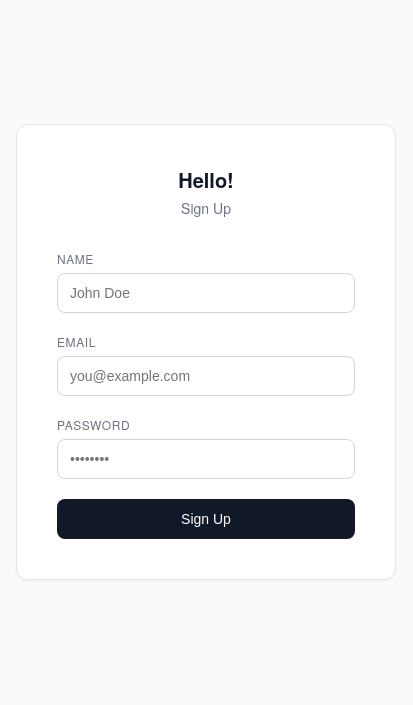
Scenario: SignUpPage submit states › returns to idle state when user edits after an error
This screenshot has width=413, height=705.
Click the button "Sign Up". click: (206, 519)
box: [57,499,355,539]
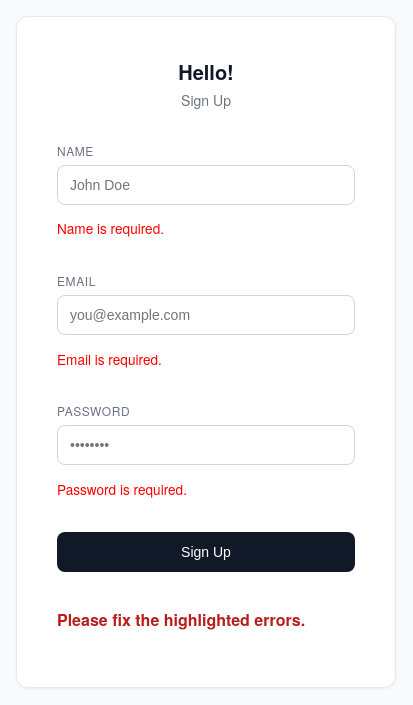
Check: the text "Please fix the highlighted errors." is shown, box [57,608,305,631]
Type "Ahmad" into the field with placeholder "John Doe". click: (206, 185)
box: [57,165,355,205]
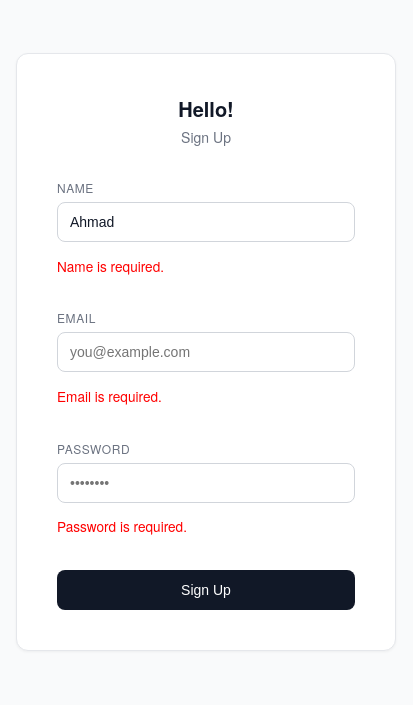
Check: the text "Please fix the highlighted errors." is gone
